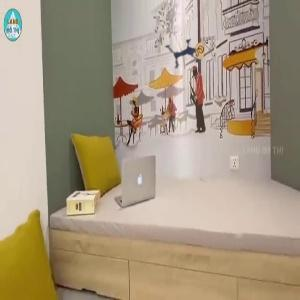drone: (163, 31, 209, 77)
